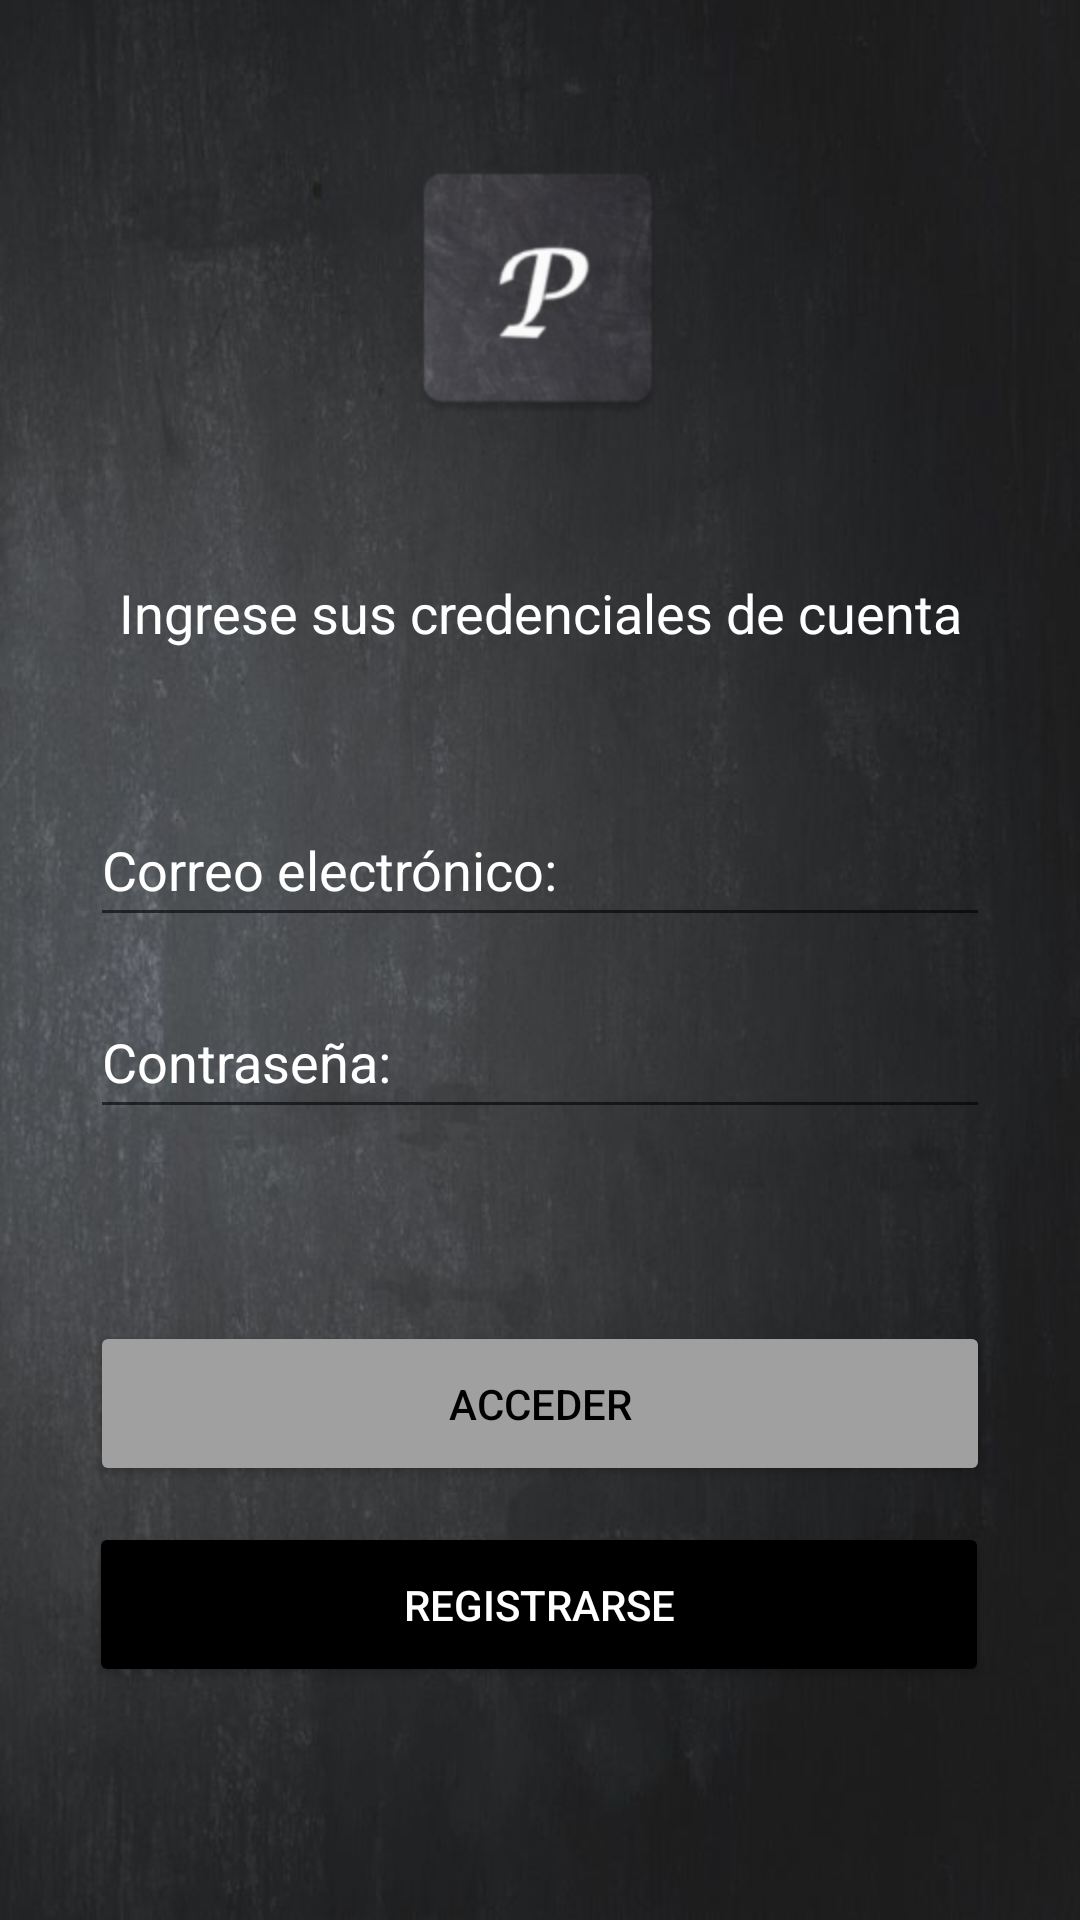

Screen size 1080px x 1920px. Icon name, then its box in pixels as (x1, y1, x2, y2):
pizarra: (394, 174, 648, 428)
